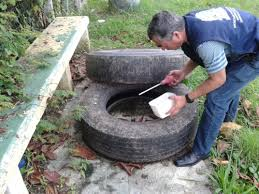tire: (82, 79, 199, 163), (85, 50, 189, 84)
